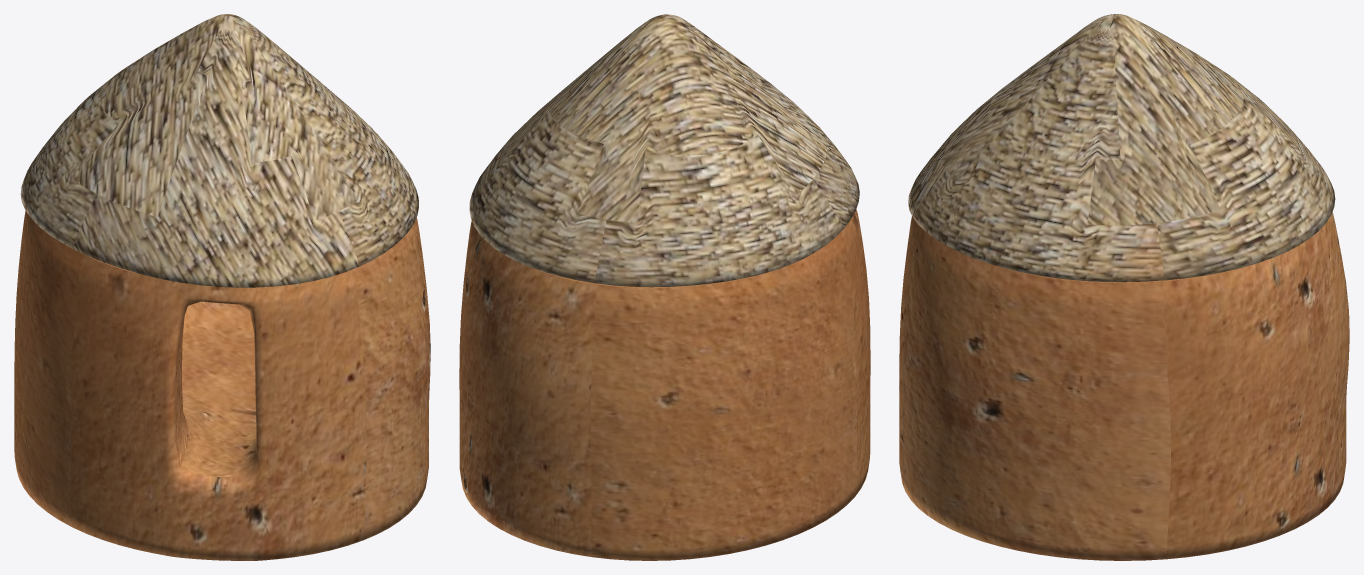
File: Hut.fbx
3 views of the same model, side by side, from view 1: azimuth 30°, elevation 25°; view 2: azimuth 150°, elevation 25°; view 3: azimuth 270°, elevation 25° (orthographic). The views are drawn at different scales.
Parts seen in each view (by area): view 1: Cylinder; view 2: Cylinder; view 3: Cylinder.
Part boxes in pixels (bbox=[...]): Cylinder: bbox=[14, 14, 430, 560]; Cylinder: bbox=[459, 14, 870, 560]; Cylinder: bbox=[899, 14, 1349, 560].
Size of the model in its own units: 271 by 340 by 298.
